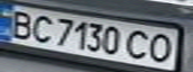0: (103, 24, 124, 56)
1: (69, 19, 87, 51)
3: (84, 20, 106, 54)
7: (51, 16, 75, 47)
B: (3, 8, 39, 39)
C: (124, 28, 154, 61), (27, 12, 57, 44)
O: (145, 31, 175, 64)
